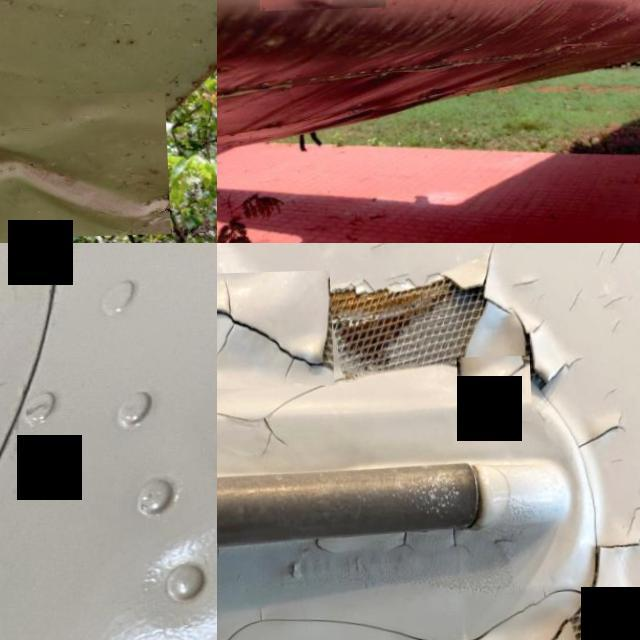Crack: (217, 587, 587, 640), (217, 275, 332, 388), (217, 372, 350, 462), (539, 396, 598, 552), (511, 308, 581, 399), (438, 243, 512, 322), (456, 360, 529, 425), (580, 533, 640, 612), (570, 410, 629, 458), (563, 607, 640, 640)
Dent: (0, 94, 167, 243)
